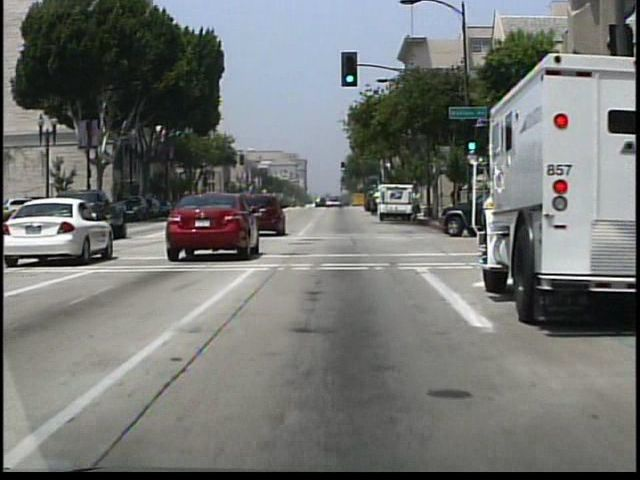person: (411, 189, 422, 223)
